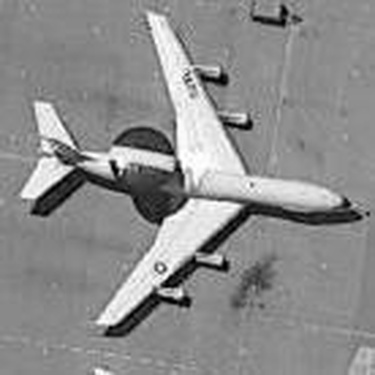airplane: (13, 1, 364, 341)
